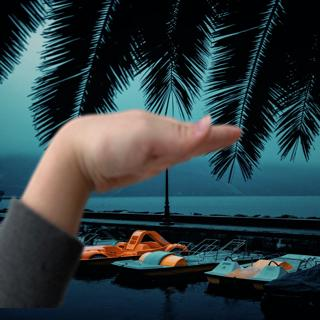Wait: (54, 99, 243, 195)
